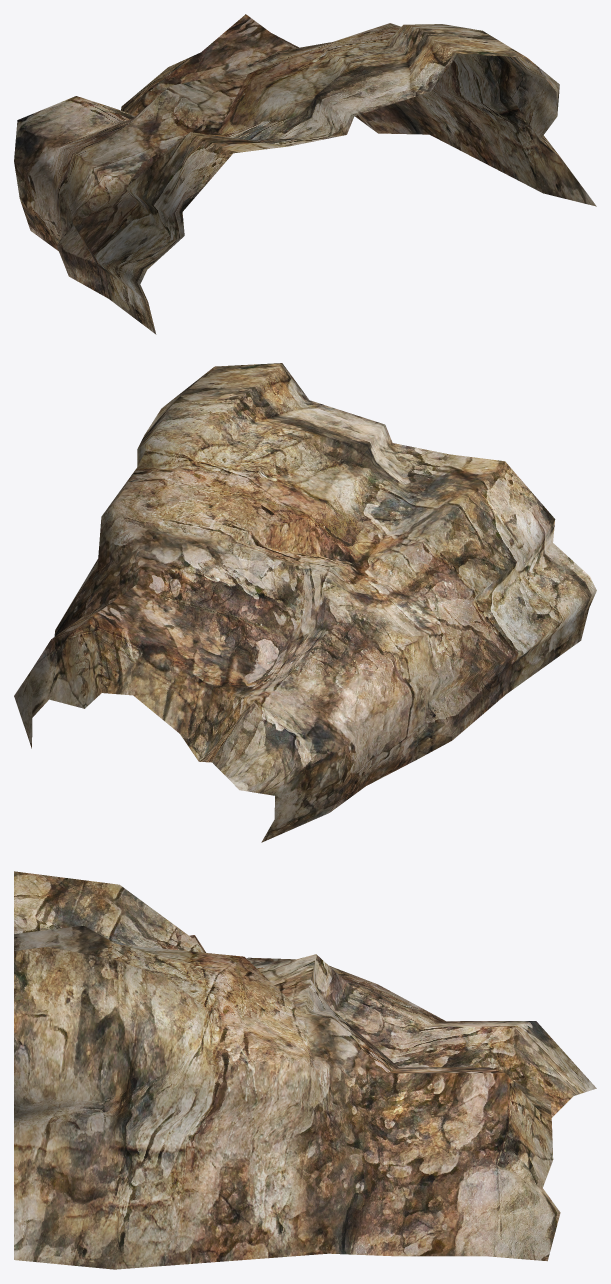
Rendered from ex_DungeonSet_Cliff_01C.fbx.
3 renders of one model, top to bottom at view 1: azimuth 30°, elevation 25°; view 2: azimuth 150°, elevation 25°; view 3: azimuth 270°, elevation 25°, orthographic. The views are drawn at different scales.
Parts seen in each view (by area): view 1: ex_DungeonSet_Cliff_01C; view 2: ex_DungeonSet_Cliff_01C; view 3: ex_DungeonSet_Cliff_01C.
Boxes of the visible parts, <box> form: ex_DungeonSet_Cliff_01C: <box>14,14,596,334</box>; ex_DungeonSet_Cliff_01C: <box>14,363,596,842</box>; ex_DungeonSet_Cliff_01C: <box>14,871,596,1269</box>.
Bounding box in the file's own units: 2916 × 1718 × 2650.
